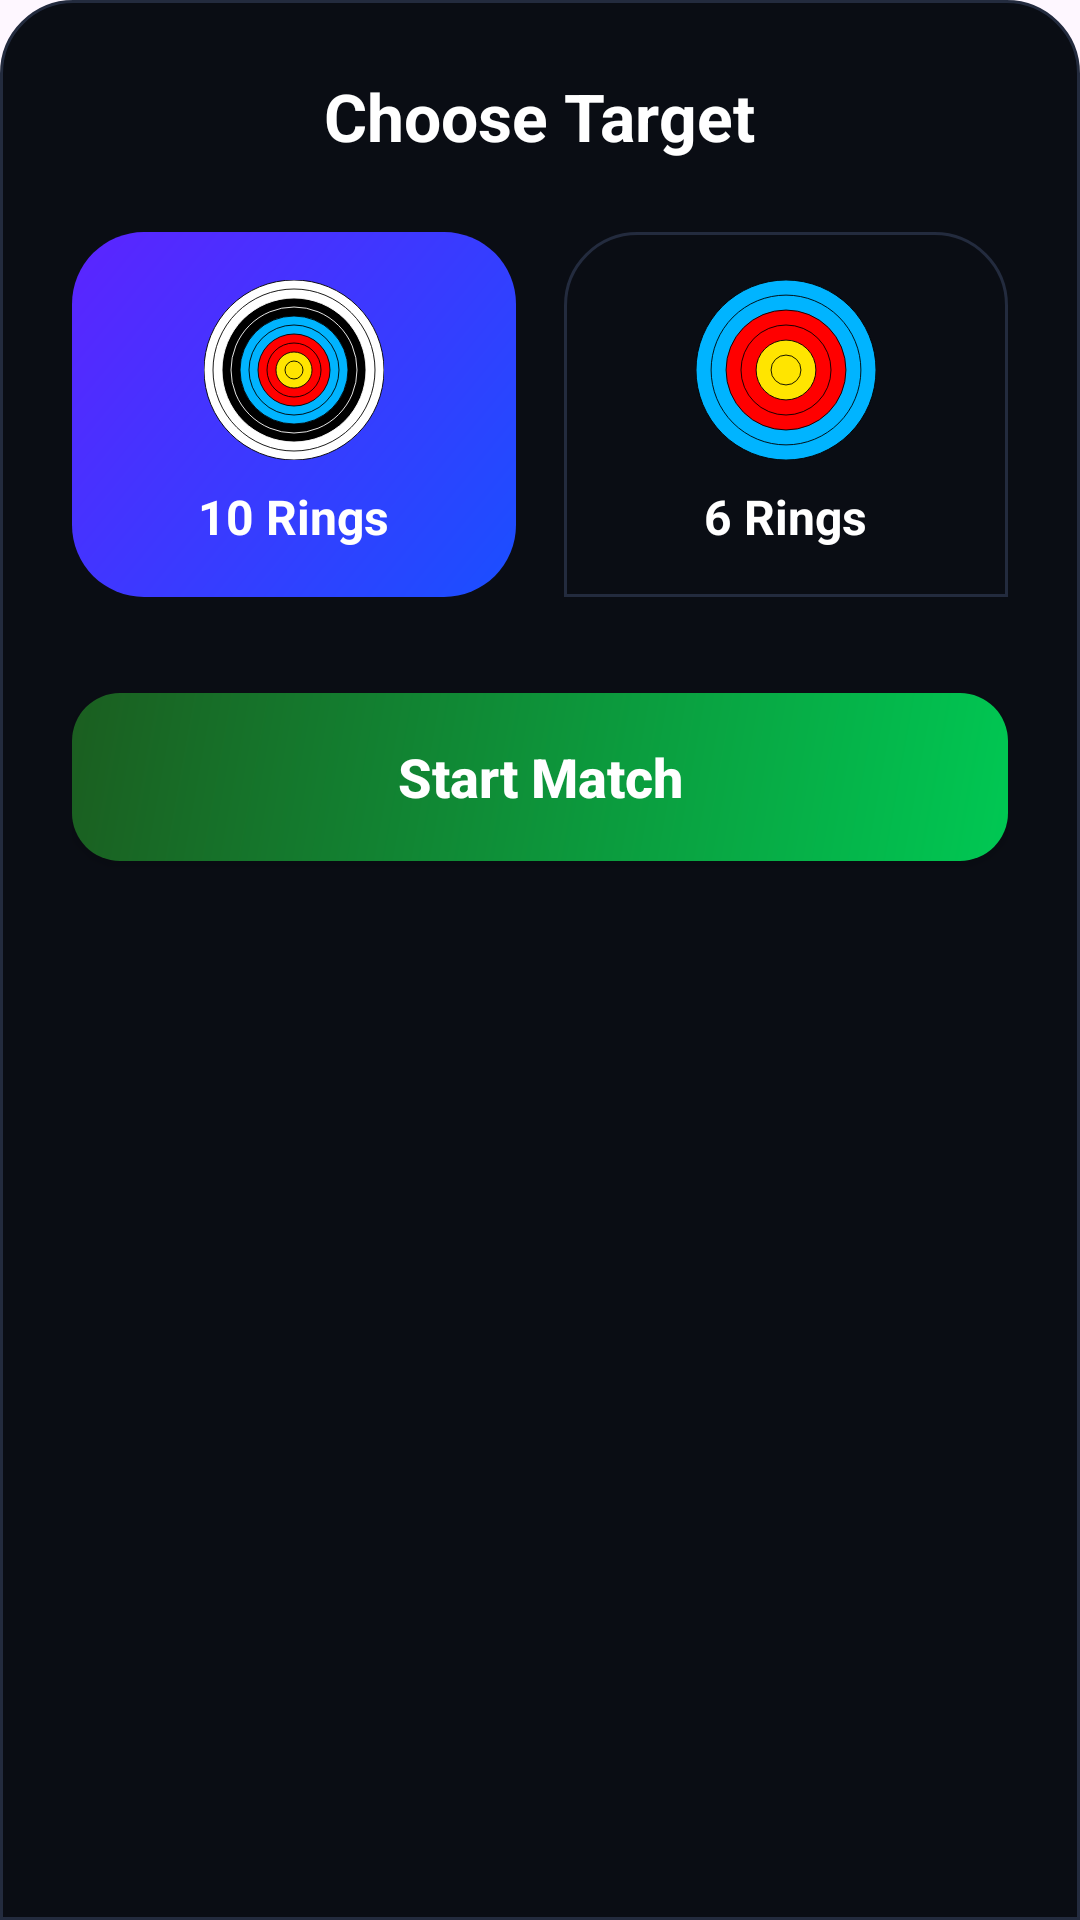

Locate icon controls on the screen. Image size 1080×1920, boxes as (x1, y1, x2, y2).
target ring: (204, 280, 384, 460), (696, 280, 876, 460)
